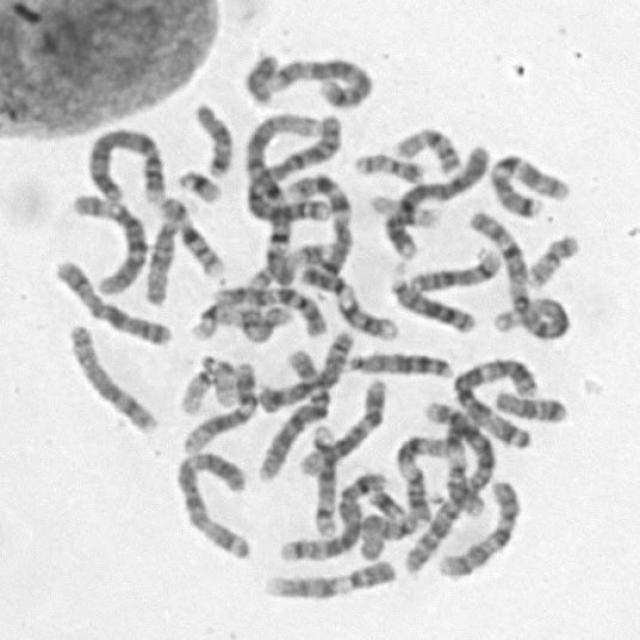A1: (462, 203, 574, 342), (240, 110, 320, 294)
A2: (397, 393, 499, 577), (244, 119, 352, 227)
A3: (169, 445, 256, 562), (449, 353, 541, 450)
B4: (379, 138, 493, 260), (83, 121, 168, 204)
B5: (276, 466, 389, 564), (264, 51, 376, 108)
C10: (432, 475, 524, 579), (207, 278, 329, 339)
C11: (393, 429, 458, 525), (440, 416, 486, 522)
C12: (298, 372, 392, 476), (178, 356, 261, 456)
C6: (255, 336, 342, 481), (66, 187, 152, 298)
C7: (283, 168, 355, 279), (485, 145, 573, 219)
C8: (62, 318, 161, 436), (253, 326, 355, 414)
C9: (296, 260, 402, 342), (260, 554, 400, 601)
D13: (384, 268, 478, 334), (341, 344, 454, 382)
D14: (404, 244, 504, 294), (304, 420, 340, 540)
D15: (140, 211, 181, 306), (355, 507, 415, 562)
E16: (152, 191, 226, 279), (390, 122, 466, 177)
E17: (244, 236, 335, 291), (232, 306, 292, 347)
E18: (189, 97, 236, 178), (488, 385, 570, 425)
F19: (362, 188, 442, 230), (186, 298, 247, 342)
F20: (522, 228, 583, 290), (350, 146, 427, 184)
G21: (173, 164, 224, 205), (363, 482, 409, 522)
G22: (175, 356, 218, 417), (202, 350, 238, 410)
X: (48, 254, 172, 346)
Y: (240, 46, 281, 106)
